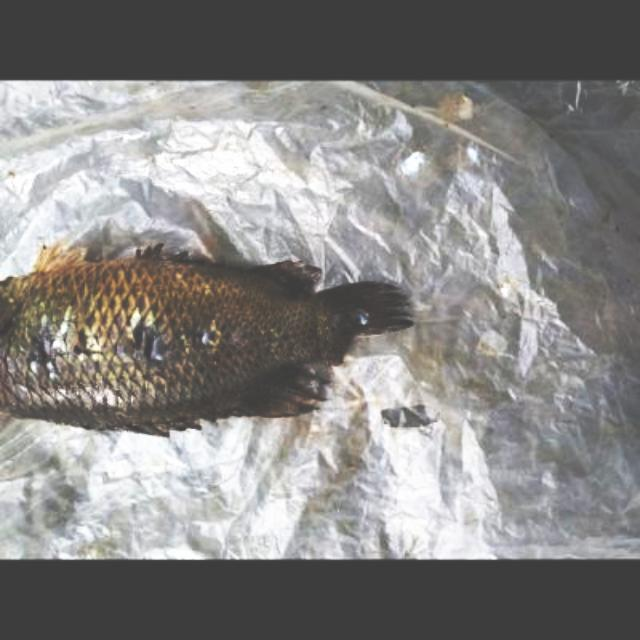Columnaris Disease: (0, 243, 411, 435)
